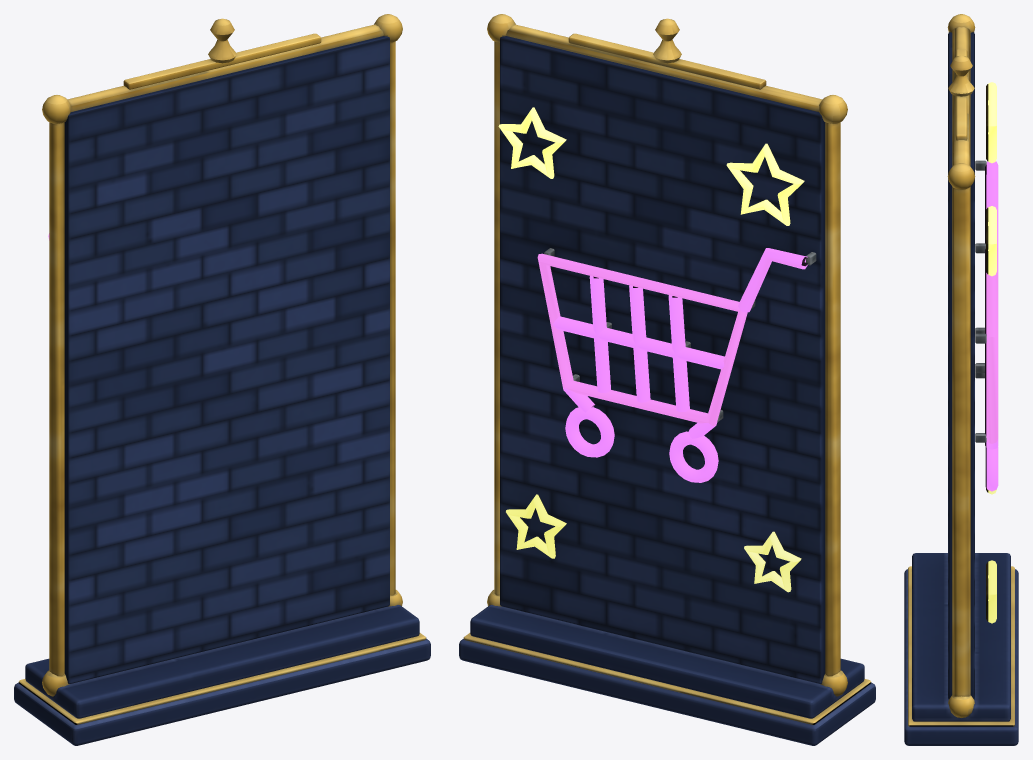
File: neon-cart.fbx
The picture shows the model from 3 angles, left to right: view 1: azimuth 30°, elevation 25°; view 2: azimuth 150°, elevation 25°; view 3: azimuth 270°, elevation 25°; orthographic projection. The views are drawn at different scales.
Visible parts, largest first — view 1: Body; view 2: Body, Anim Blink, Anim Blink.002, Anim Blink.001, Anim Blink.005, Anim Blink.003, Anim Blink.004; view 3: Body, Anim Blink, Anim Blink.003, Anim Blink.004, Anim Blink.005, Anim Blink.001.
Part boxes in pixels (x1,y1,x2,y2): Body: (14, 14, 430, 745); Body: (459, 14, 875, 745); Anim Blink: (537, 248, 807, 438); Anim Blink.002: (552, 276, 724, 411); Anim Blink.001: (565, 407, 718, 482); Anim Blink.005: (506, 494, 801, 592); Anim Blink.003: (726, 143, 804, 225); Anim Blink.004: (498, 107, 566, 178); Body: (904, 14, 1018, 745); Anim Blink: (986, 161, 998, 449); Anim Blink.003: (988, 82, 996, 163); Anim Blink.004: (988, 206, 996, 276); Anim Blink.005: (988, 489, 996, 623); Anim Blink.001: (986, 447, 998, 491).
Bounding box in the file's own units: 1 × 1.77 × 0.3.
